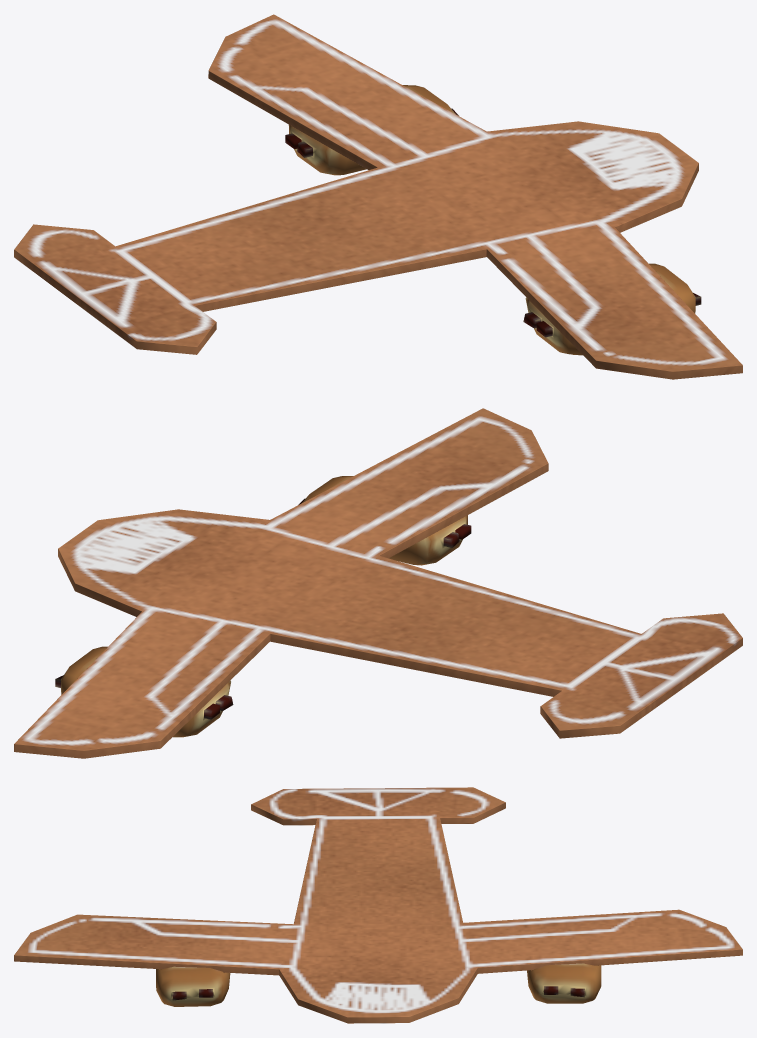
File: Mod_Plane.gltf
3 renders of one model, top to bottom at view 1: azimuth 30°, elevation 25°; view 2: azimuth 150°, elevation 25°; view 3: azimuth 270°, elevation 25°, orthographic. The views are drawn at different scales.
Parts seen in each view (by area): view 1: Plane; view 2: Plane; view 3: Plane.
Part boxes in pixels (left/top/right/bottom): Plane: left=14, top=14, right=742, bottom=379; Plane: left=14, top=408, right=742, bottom=758; Plane: left=14, top=787, right=742, bottom=1023.
Size of the model in its own units: 3.98 by 0.3617 by 5.36.
1 material, 1 textured.
